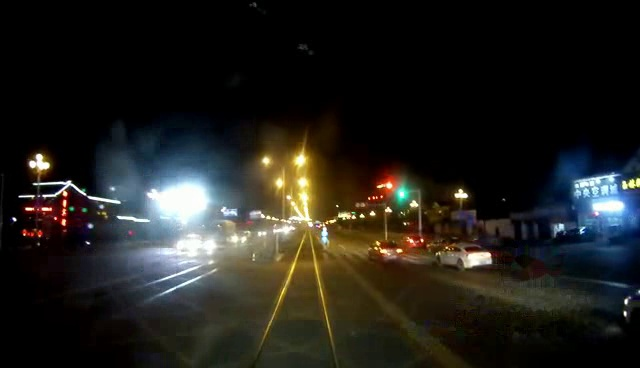car: (435, 242, 492, 271), (367, 239, 406, 265)
